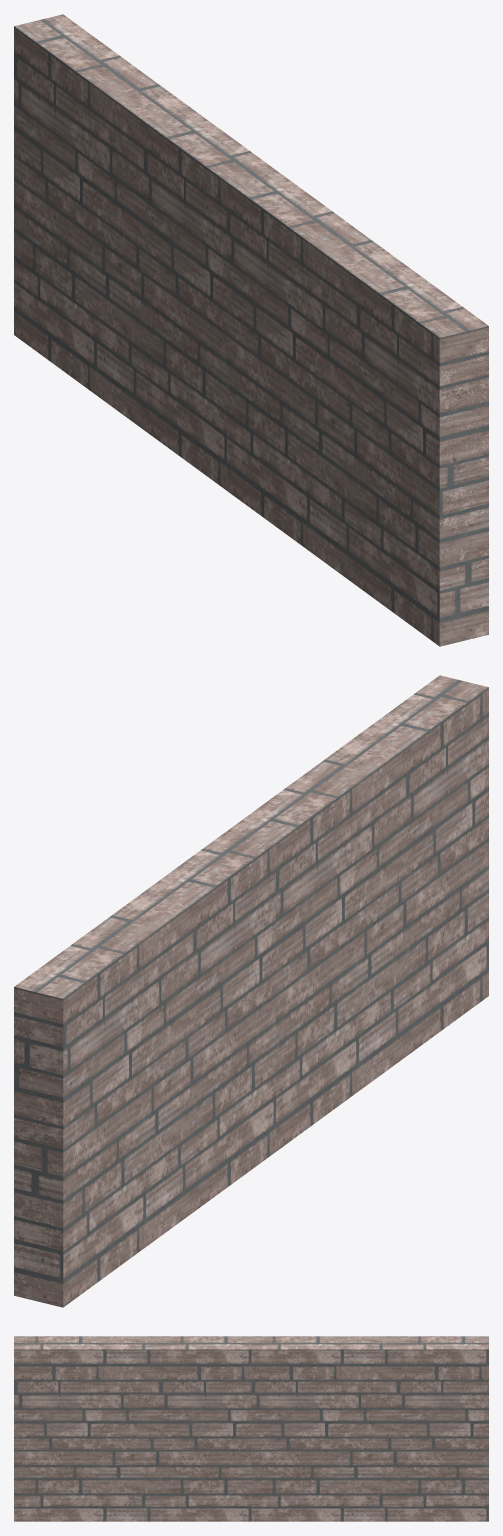
The model's file is Kabe01x3m.FBX.
3 renders of one model, top to bottom at view 1: azimuth 30°, elevation 25°; view 2: azimuth 150°, elevation 25°; view 3: azimuth 270°, elevation 25°, orthographic. The views are drawn at different scales.
Visible parts, largest first — view 1: Kabe01x3m; view 2: Kabe01x3m; view 3: Kabe01x3m.
Part boxes in pixels (x1=…): Kabe01x3m: x1=14, y1=14, x2=488, y2=646; Kabe01x3m: x1=14, y1=675, x2=488, y2=1307; Kabe01x3m: x1=14, y1=1336, x2=488, y2=1521.
Size of the model in its own units: 7.87 by 47.24 by 118.
